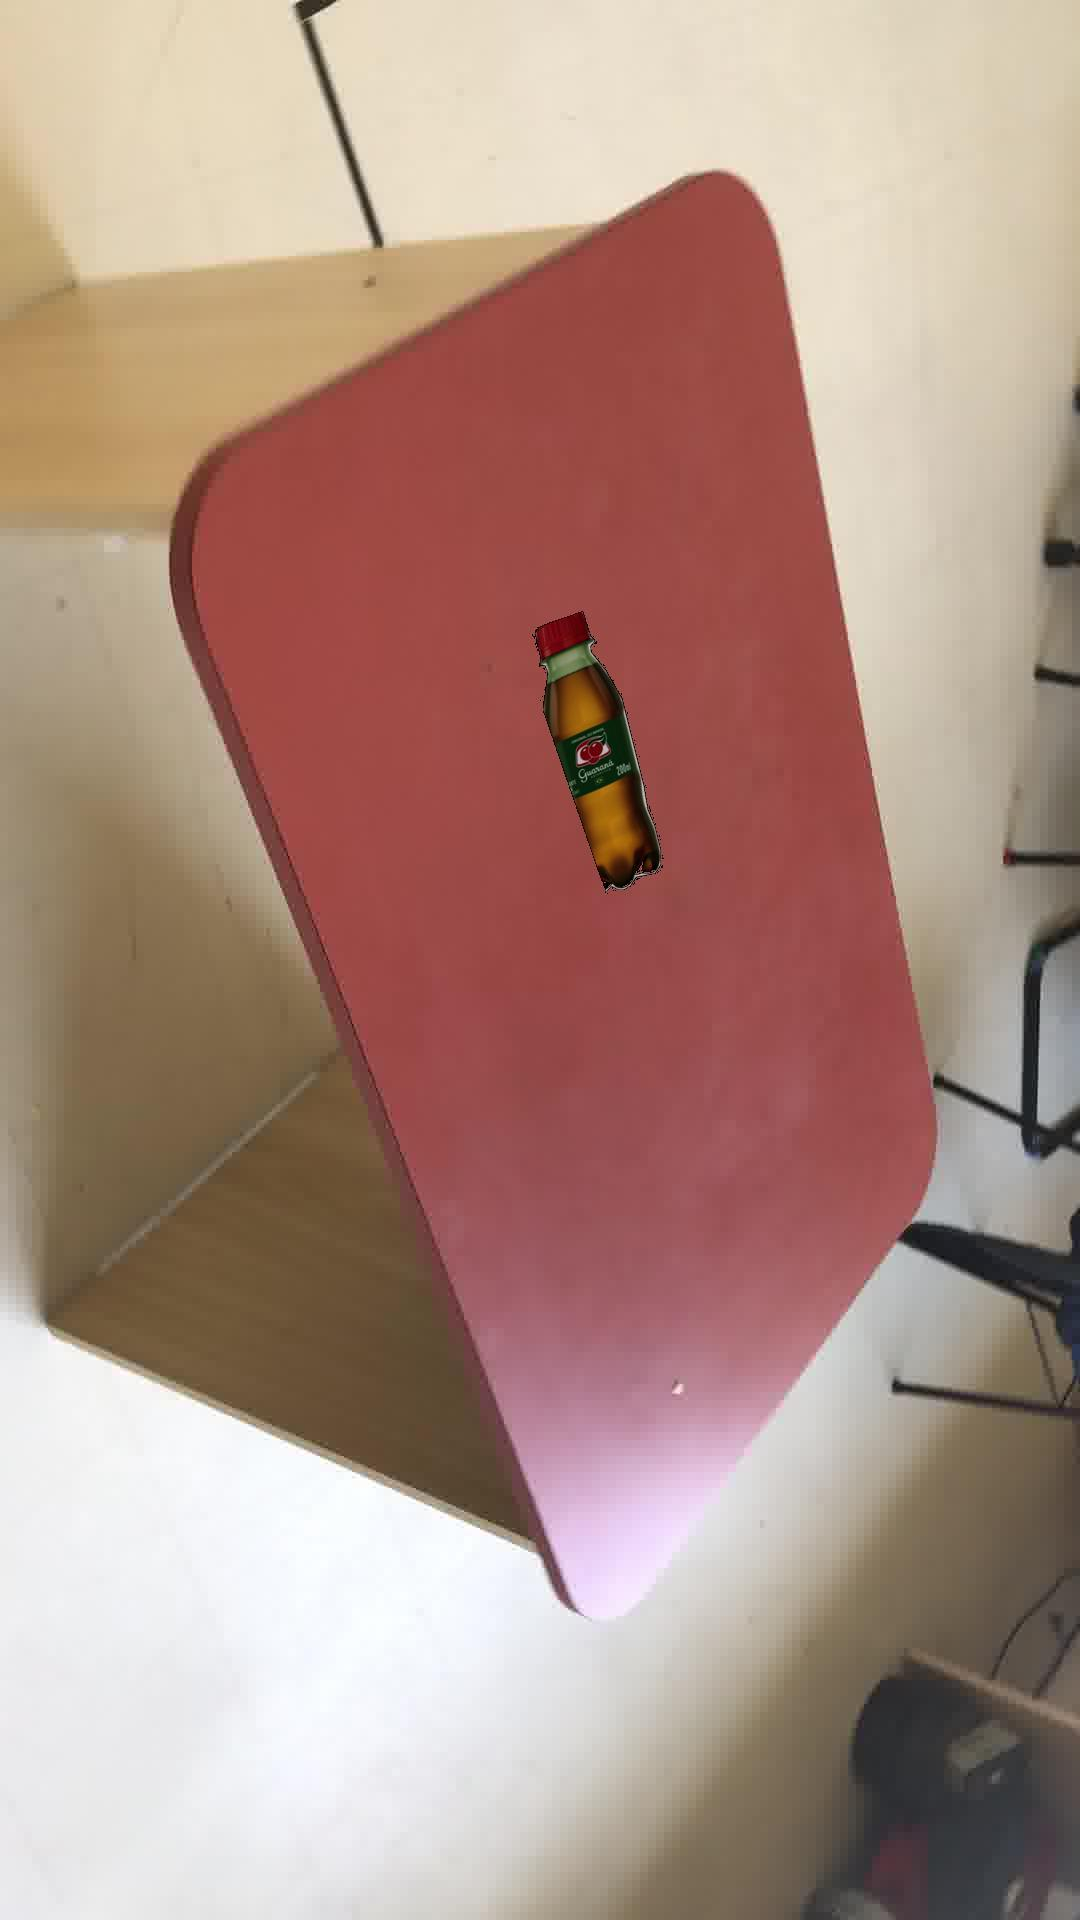guarana: (531, 609, 659, 891)
